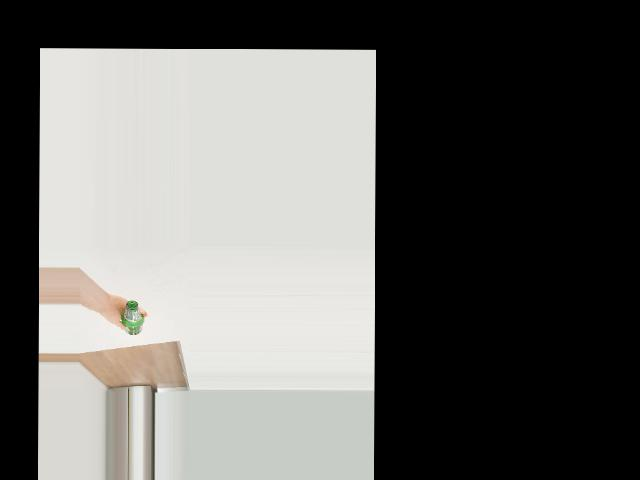beer: (121, 300, 144, 335)
